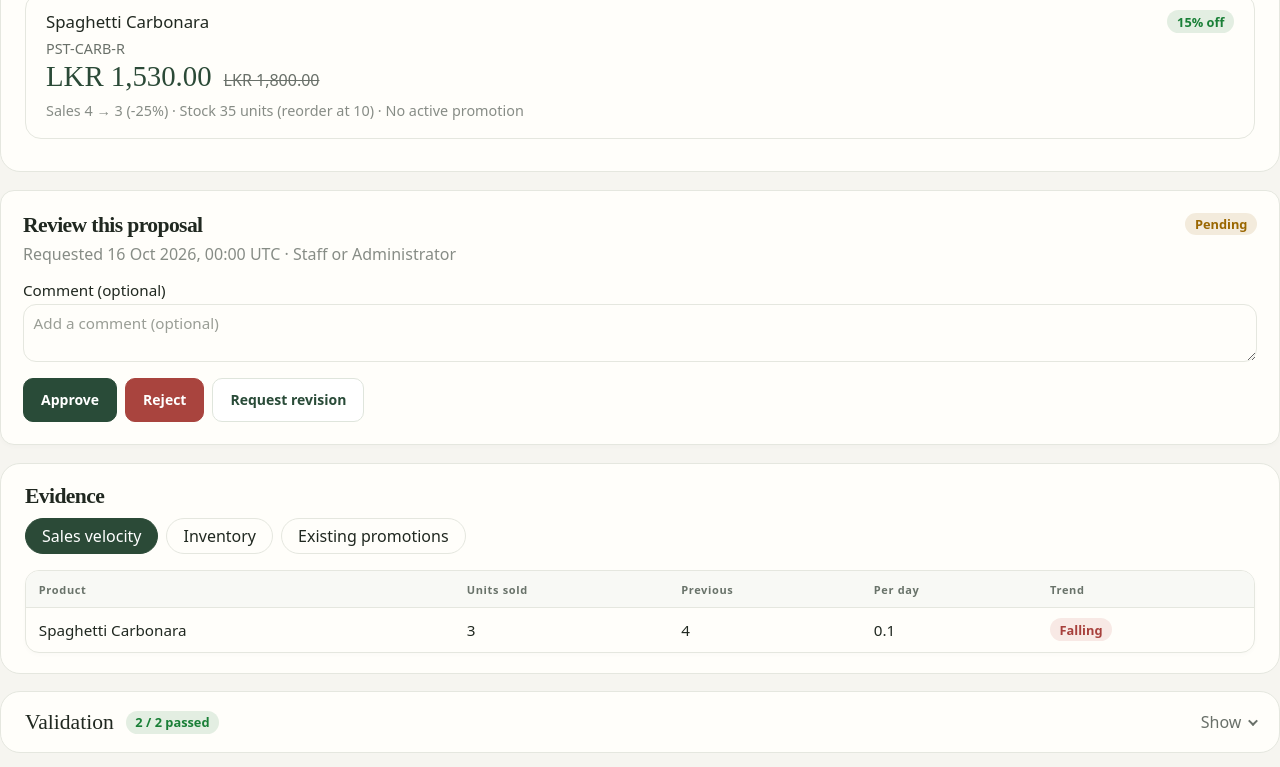
Scenario: AgentWorkflowDetailPage › approving › treats a duplicate approval as a conflict and reloads the true state
(page scrolled)
Click the button "Approve".
click(70, 400)  # box [23, 378, 117, 422]
(page scrolled)
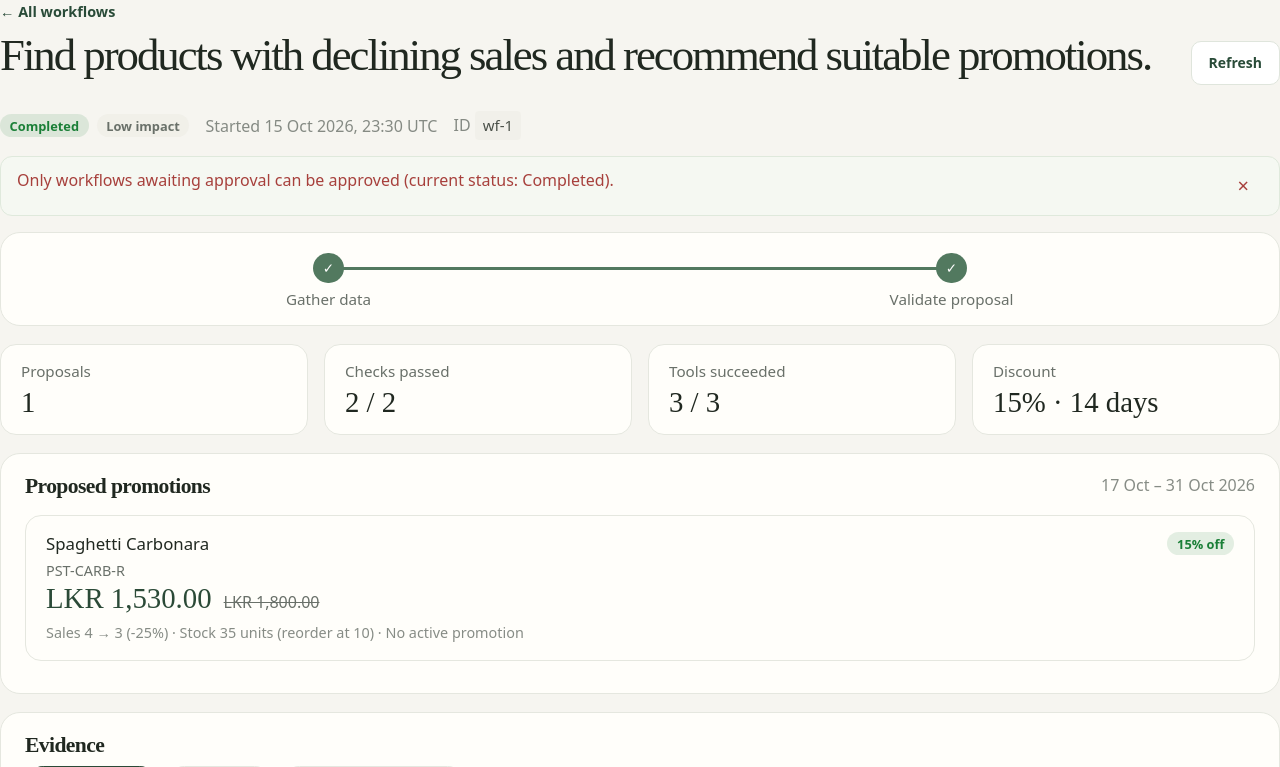
Now the message shows "Only workflows awaiting approval can be approved (current status: Completed).", box [17, 169, 614, 191]
Now the text "Completed" is shown, box [0, 114, 89, 137]
